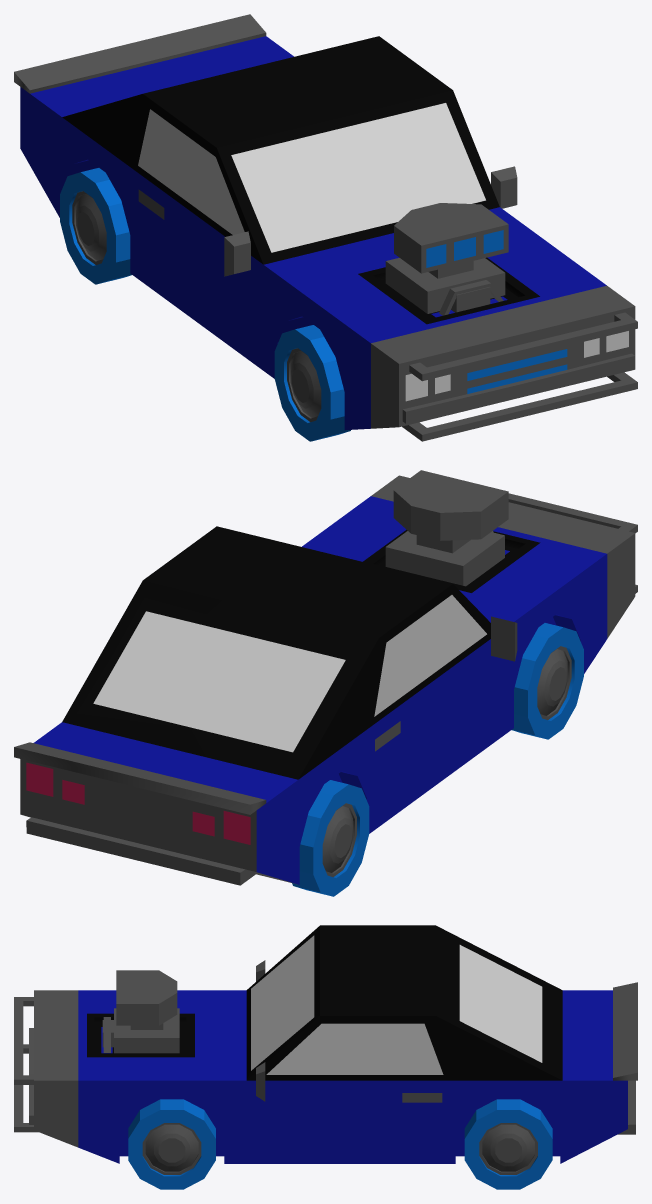
The model's file is Vehicle_03.obj.
3 renders of one model, top to bottom at view 1: azimuth 30°, elevation 25°; view 2: azimuth 150°, elevation 25°; view 3: azimuth 270°, elevation 25°, orthographic. The views are drawn at different scales.
Parts seen in each view (by area): view 1: Veh_03_SR_Veh_DerbyCar_Black; view 2: Veh_03_SR_Veh_DerbyCar_Black; view 3: Veh_03_SR_Veh_DerbyCar_Black.
Part boxes in pixels (x1,y1,x2,y2): Veh_03_SR_Veh_DerbyCar_Black: (14, 14, 637, 441); Veh_03_SR_Veh_DerbyCar_Black: (14, 470, 637, 896); Veh_03_SR_Veh_DerbyCar_Black: (14, 925, 637, 1189).
Bounding box in the file's own units: 0.2795 × 0.1997 × 0.6629.
